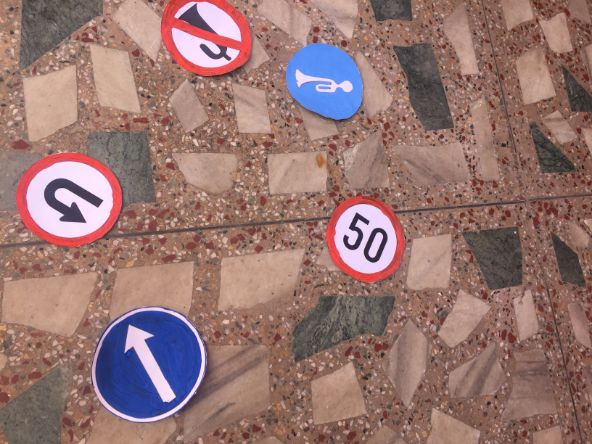blow-horn: (287, 45, 363, 118)
go-stright: (90, 306, 207, 422)
no-horn: (162, 1, 255, 78)
speed-50: (328, 196, 403, 282)
u-turn: (16, 154, 124, 247)
